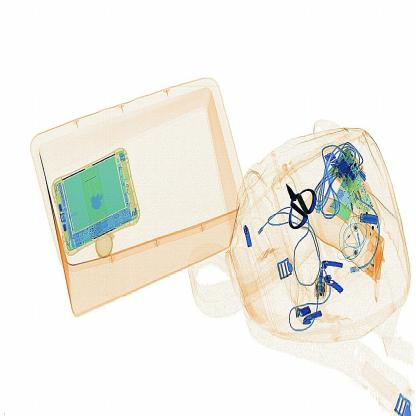gun: (284, 178, 328, 238)
